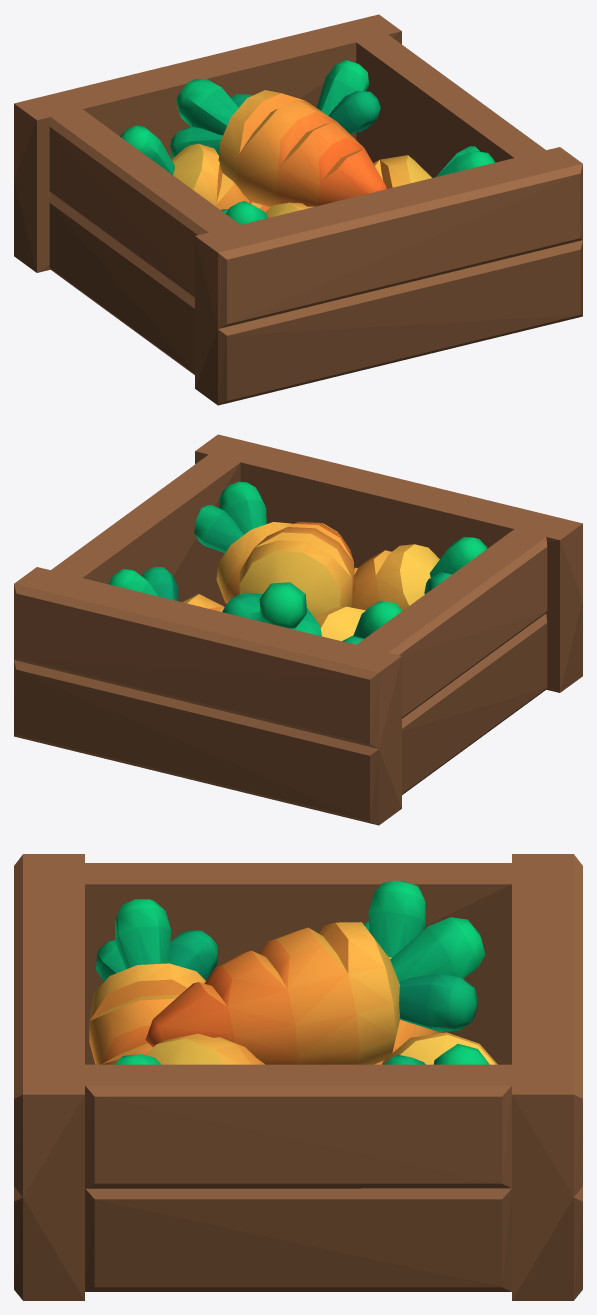
File: kaykit_restaurant_crate_carrots.glb
3 renders of one model, top to bottom at view 1: azimuth 30°, elevation 25°; view 2: azimuth 150°, elevation 25°; view 3: azimuth 270°, elevation 25°, orthographic. The views are drawn at different scales.
Visible parts, largest first — view 1: wood, plaster; view 2: wood, plaster; view 3: wood, plaster.
Boxes of the visible parts, bbox=[...] form: wood: bbox=[14, 14, 582, 405]; plaster: bbox=[120, 60, 495, 224]; wood: bbox=[14, 434, 582, 825]; plaster: bbox=[108, 481, 487, 644]; wood: bbox=[14, 854, 582, 1300]; plaster: bbox=[89, 880, 497, 1064].
Bounding box in the file's own units: 2 × 0.9432 × 2.
